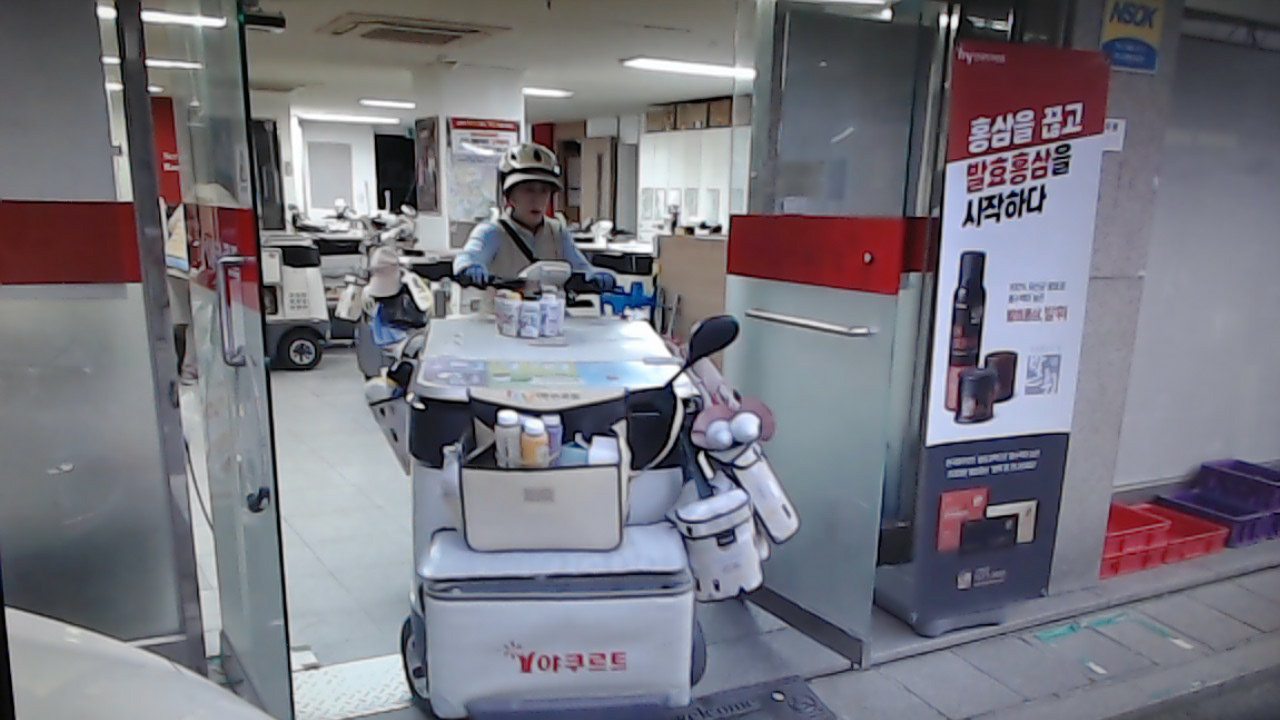Yakurut: (453, 141, 624, 295)
